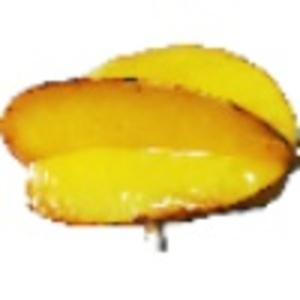carambola: (1, 41, 300, 250)
